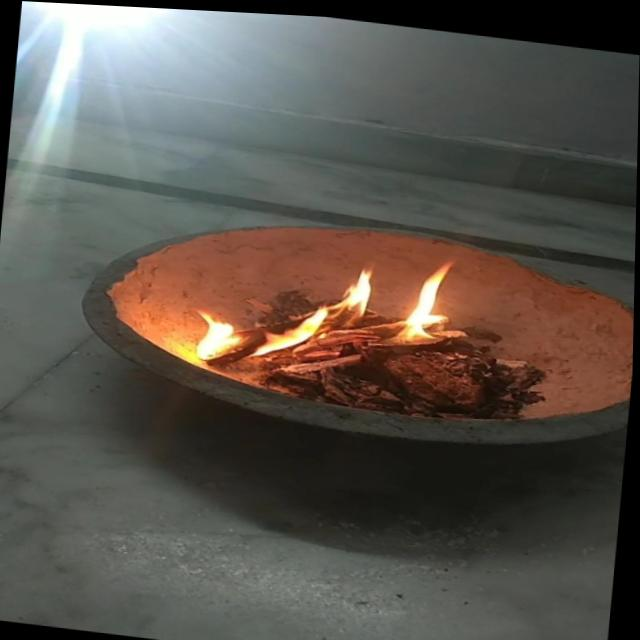fire: (256, 250, 381, 373), (394, 246, 470, 346), (189, 299, 244, 364)
